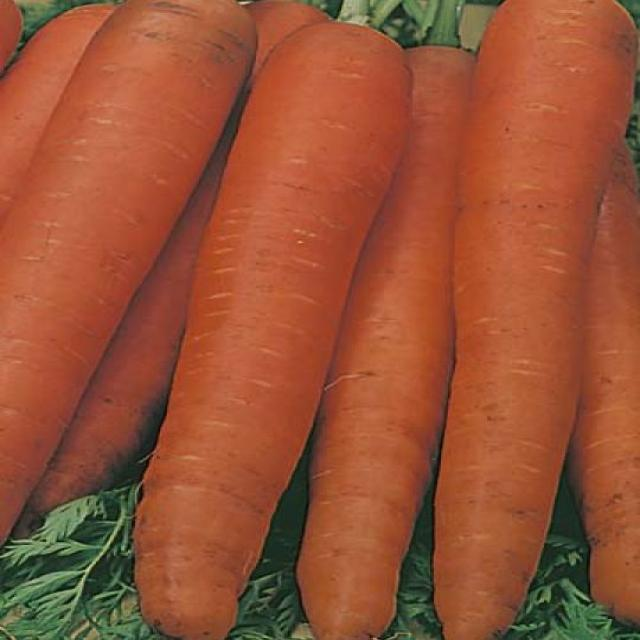carrot: (135, 22, 410, 640), (2, 0, 255, 541), (434, 0, 634, 639), (298, 46, 475, 639), (15, 140, 229, 534), (569, 144, 640, 623), (0, 5, 115, 222)
